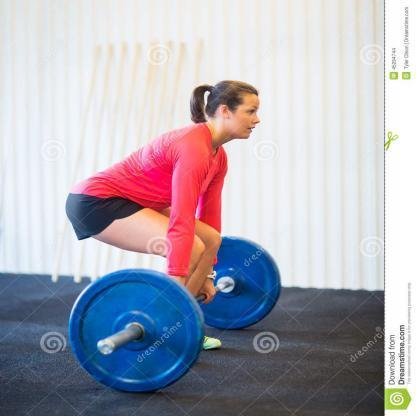barbell: (67, 234, 283, 396)
